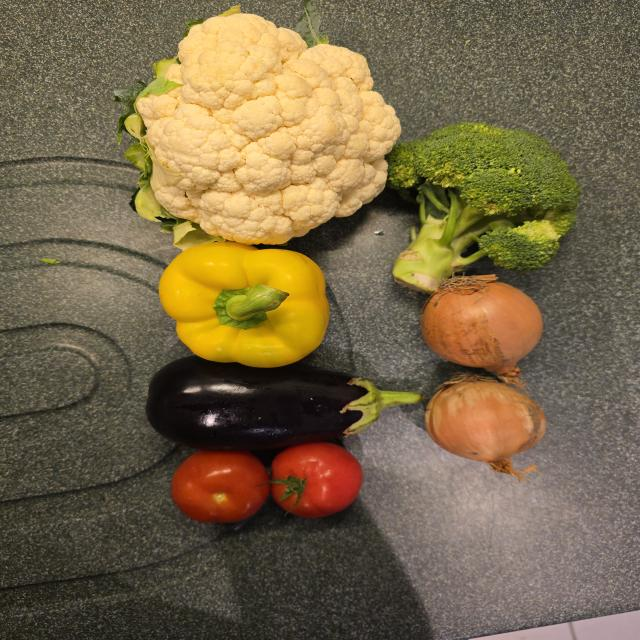Bell Pepper: (159, 241, 329, 367)
Broccoli: (386, 123, 580, 294)
Cauliflower: (121, 6, 400, 244)
Eggplant: (146, 355, 422, 451)
Onion: (425, 373, 545, 480), (420, 275, 543, 375)
Tomato: (171, 451, 270, 522), (271, 442, 362, 518)
